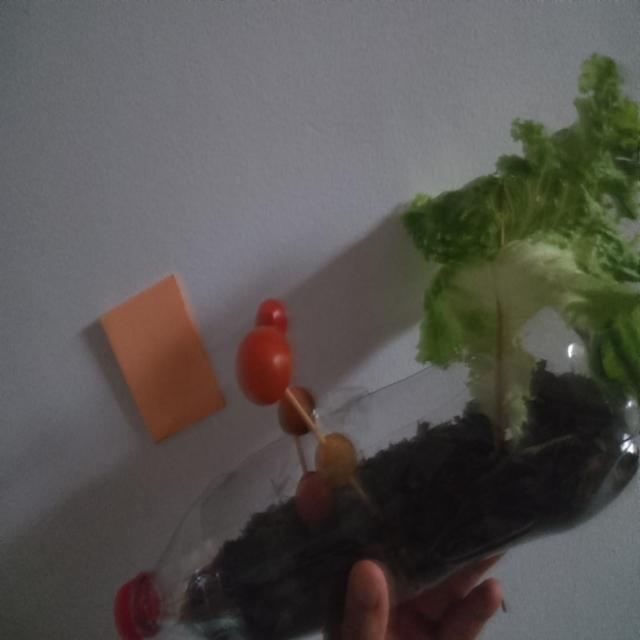card: (101, 276, 226, 441)
fruit_maturation: (315, 433, 357, 487)
fully_grown: (236, 299, 292, 405), (278, 396, 307, 436), (291, 387, 315, 415)
